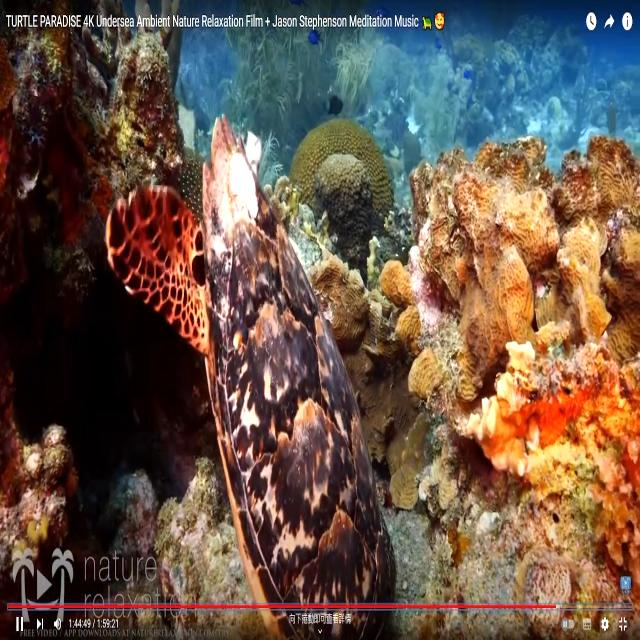Sea turtle: (104, 118, 402, 640)
